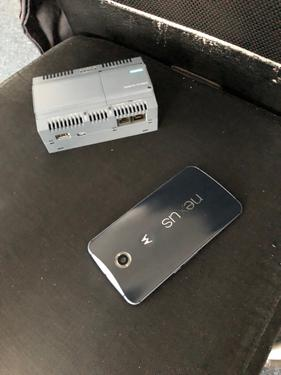device: (32, 57, 158, 154)
